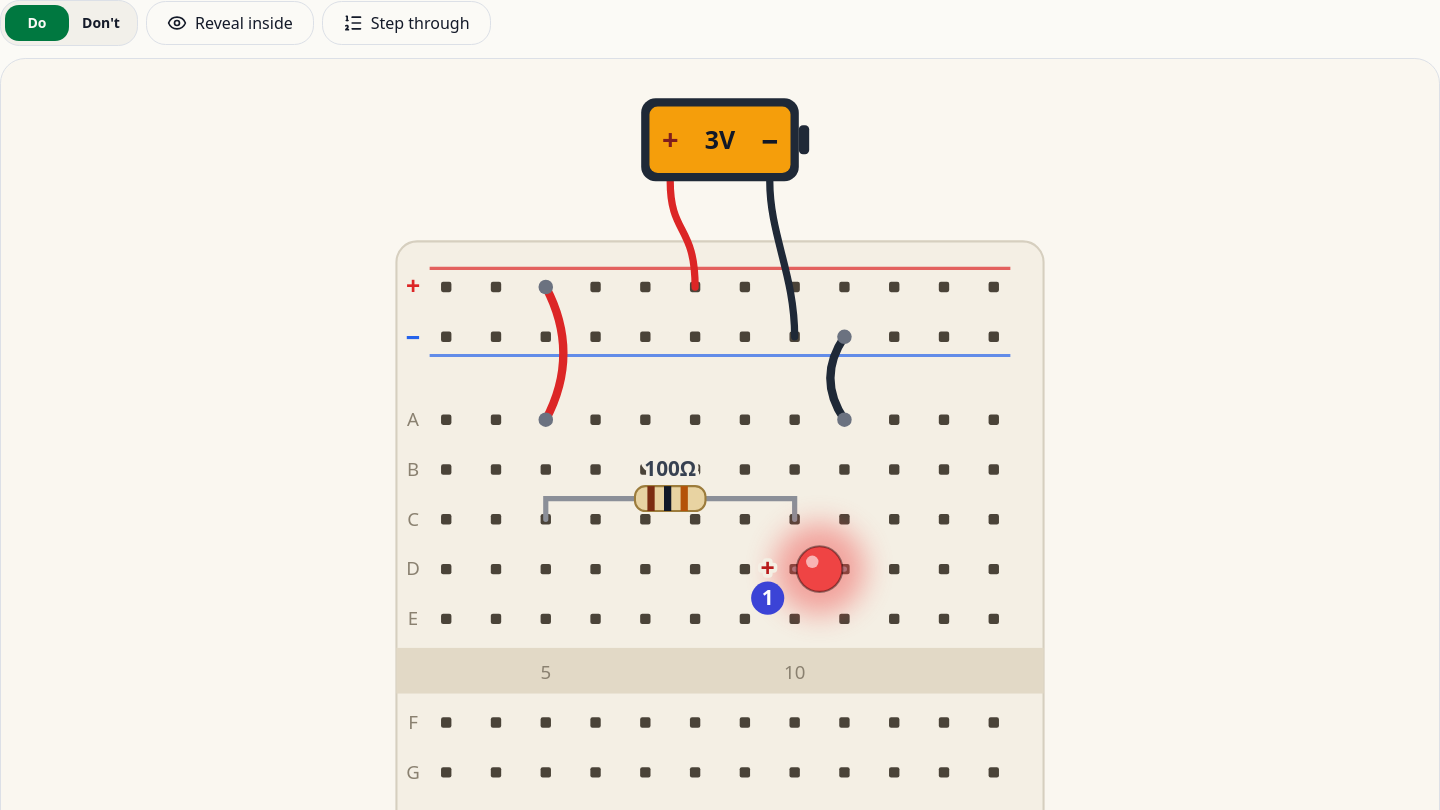
interactive breadboard › steps through the build one part at a time
This screenshot has width=1440, height=810.
Click the button "Step through" at x=406, y=23, box left=322, top=1, right=491, bottom=45
(page scrolled)
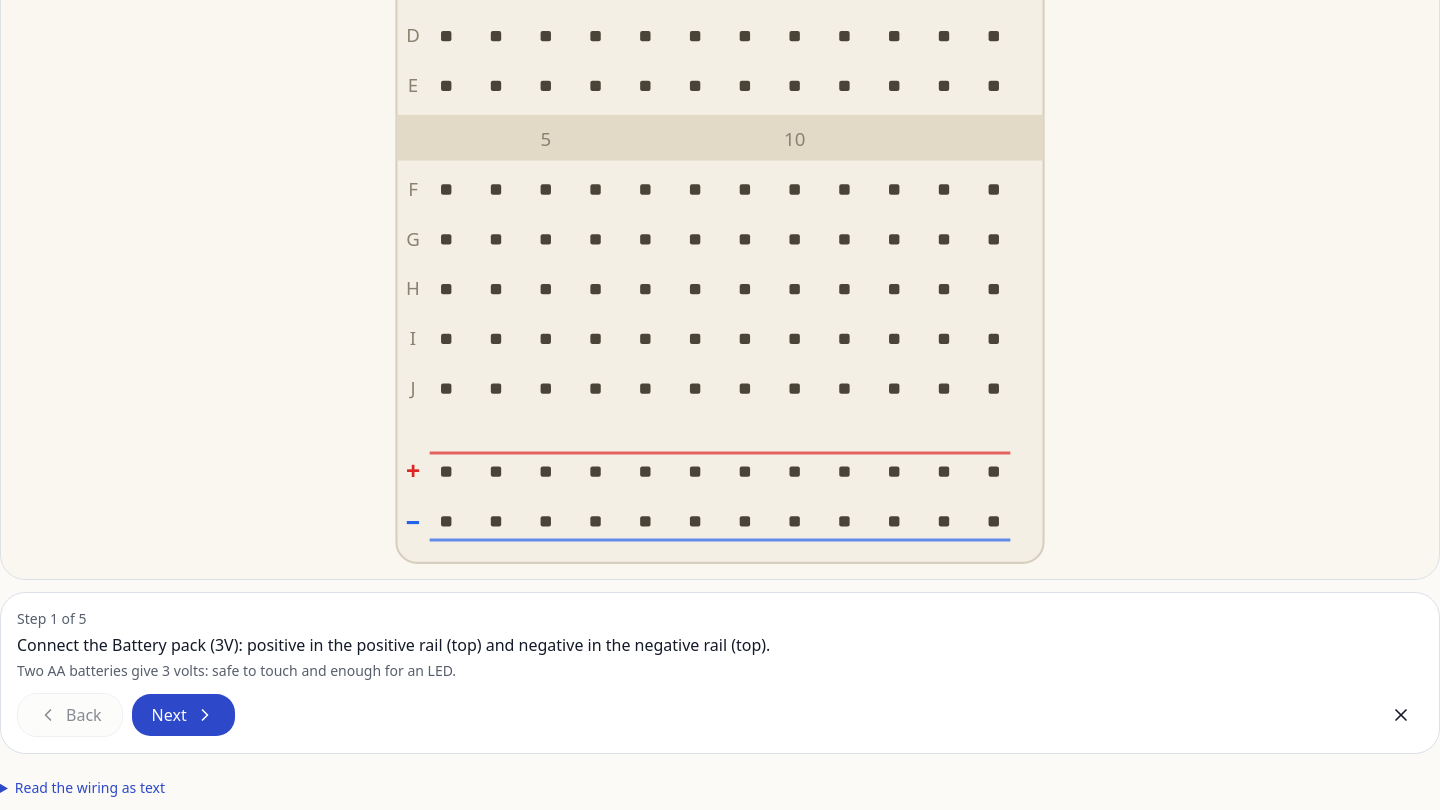
Now the text "Step 1 of 5" is shown, box left=17, top=609, right=86, bottom=628
Now the text "Connect the Battery pack" is shown, box left=17, top=634, right=770, bottom=656
Now the button "Back" is disabled, box left=17, top=693, right=123, bottom=737
Click the button "Next" at x=183, y=715, box left=131, top=693, right=236, bottom=737
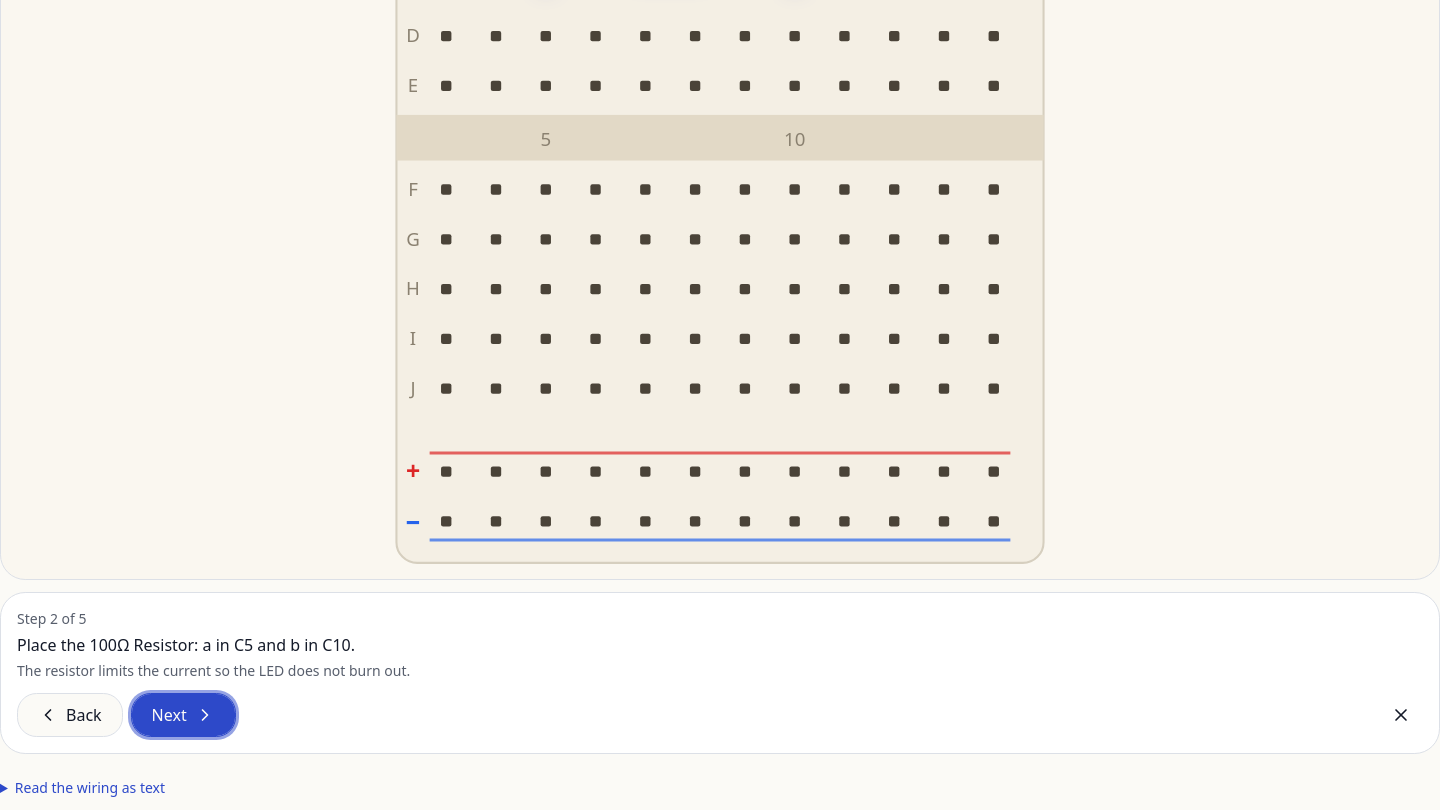
Click the button "Next" at x=183, y=715, box left=131, top=693, right=236, bottom=737
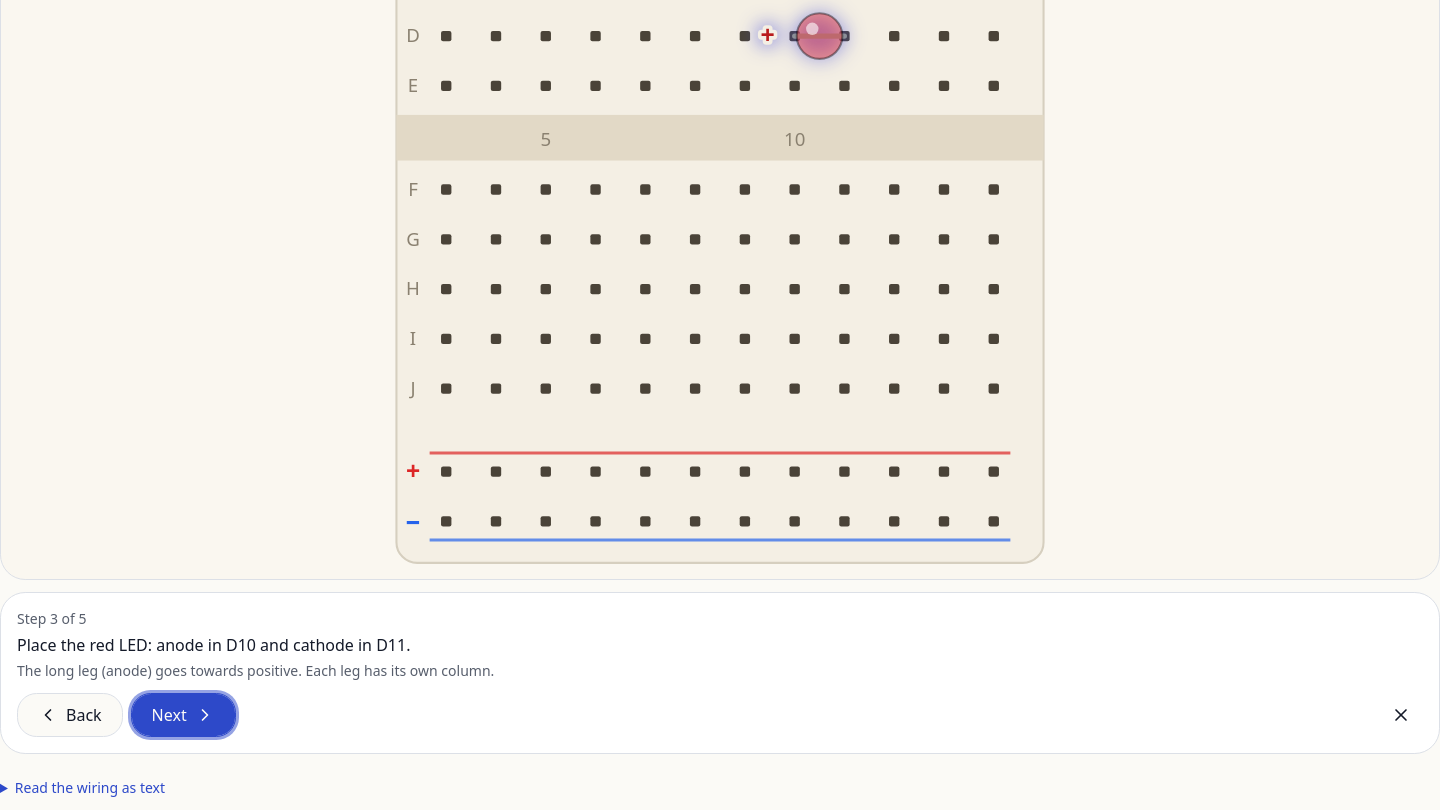
Now the text "Step 3 of 5" is shown, box left=17, top=609, right=86, bottom=628
Now the text "The long leg (anode) goes towards positive" is shown, box left=17, top=661, right=494, bottom=680
Click the button "Next" at x=183, y=715, box left=131, top=693, right=236, bottom=737
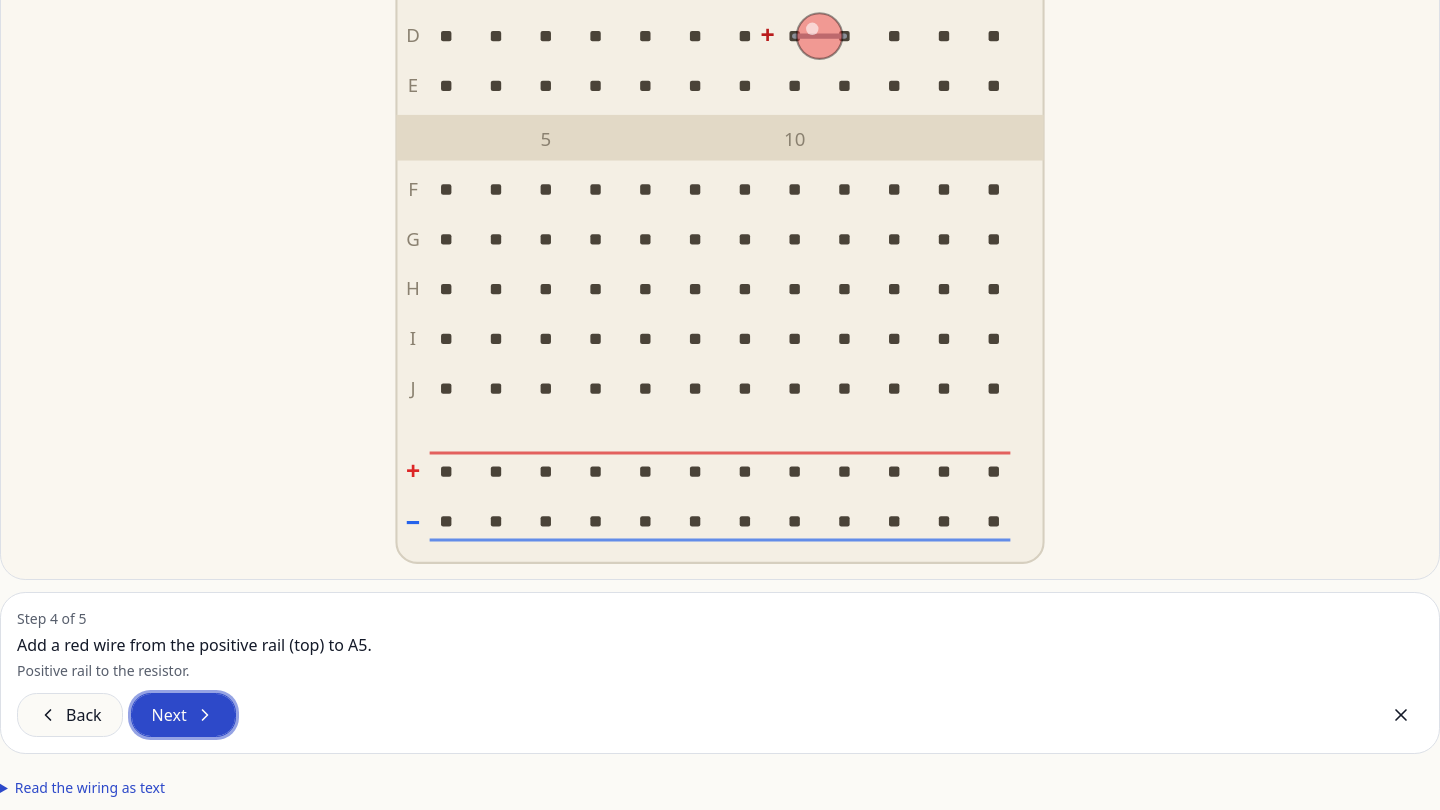
Click the button "Next" at x=183, y=715, box left=131, top=693, right=236, bottom=737
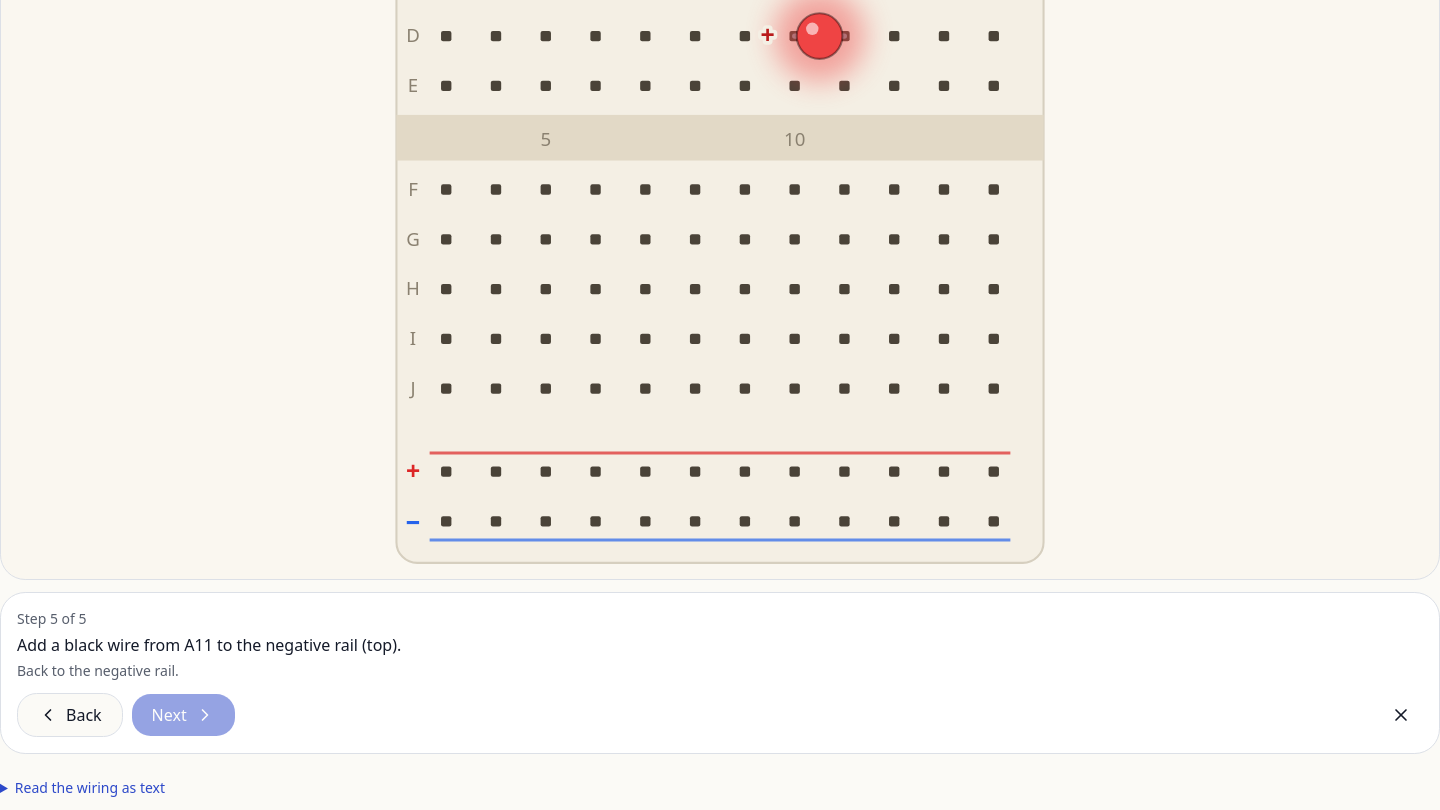
Now the button "Next" is disabled, box left=131, top=693, right=236, bottom=737
Click the button named "Stop stepping" at x=1401, y=715, box left=1379, top=693, right=1423, bottom=737
(page scrolled)
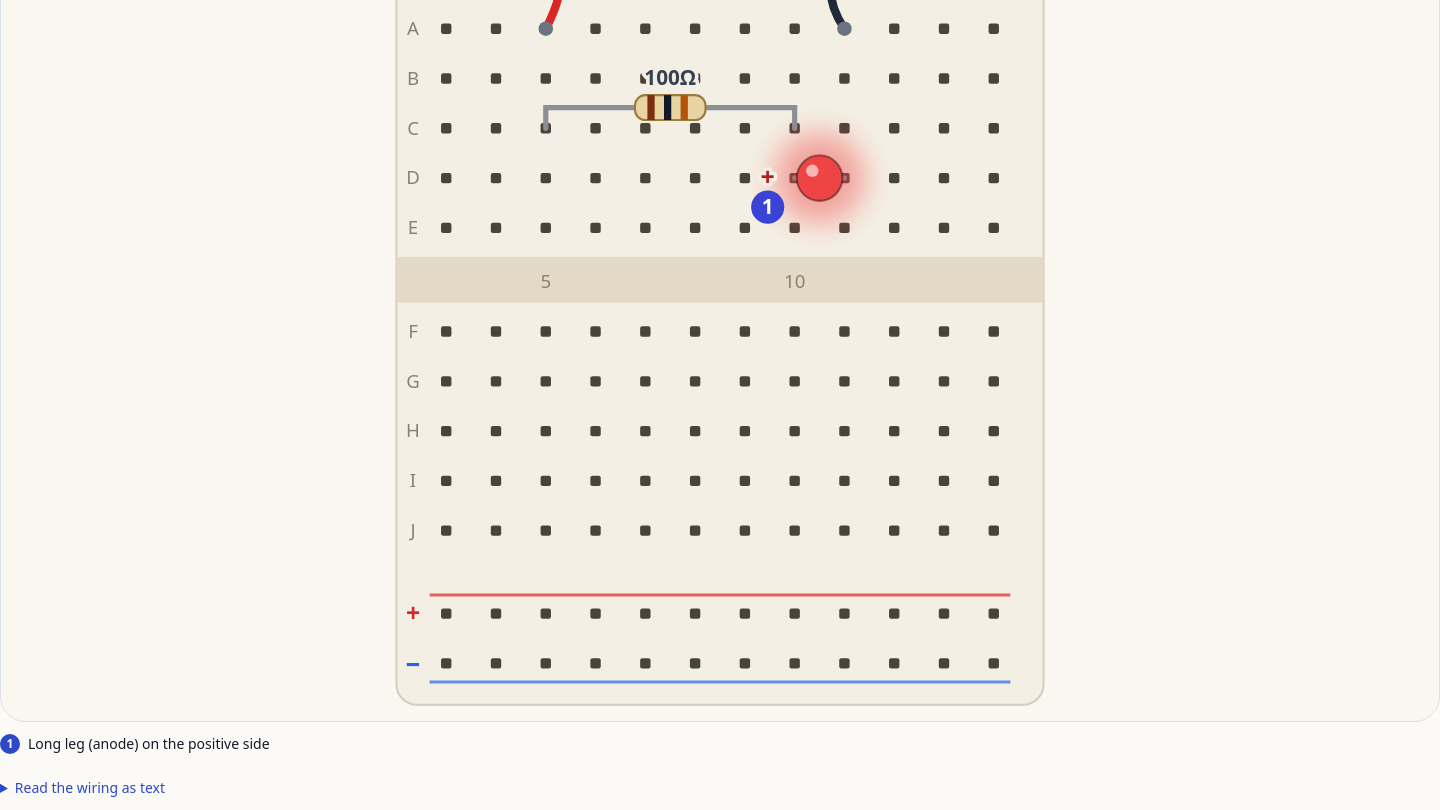
Now the text "Step 5 of 5" is gone
